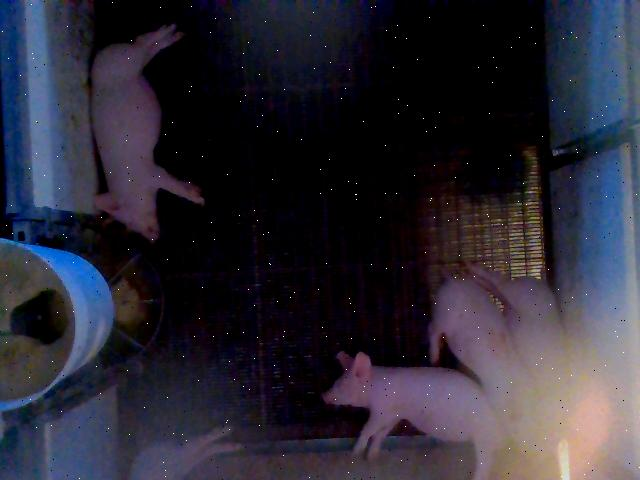pig-4: (429, 278, 550, 450)
